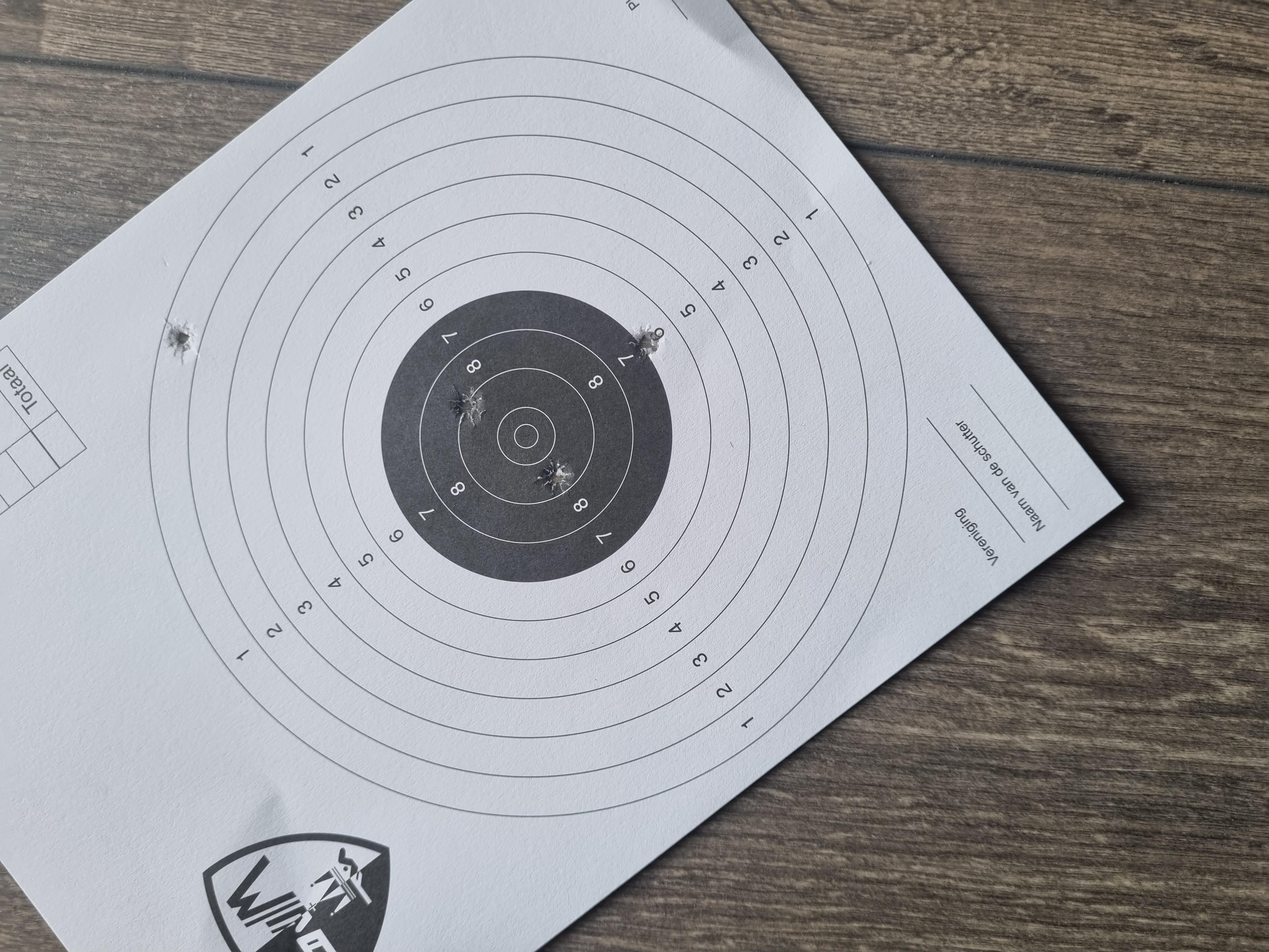hole: (701, 334, 753, 369), (783, 468, 837, 500), (606, 403, 660, 434), (787, 120, 839, 149)
